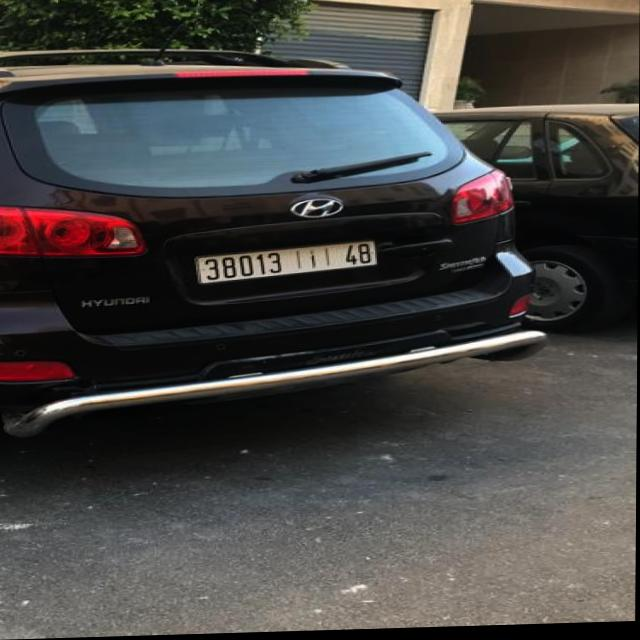License-Plate: (198, 243, 376, 284)
